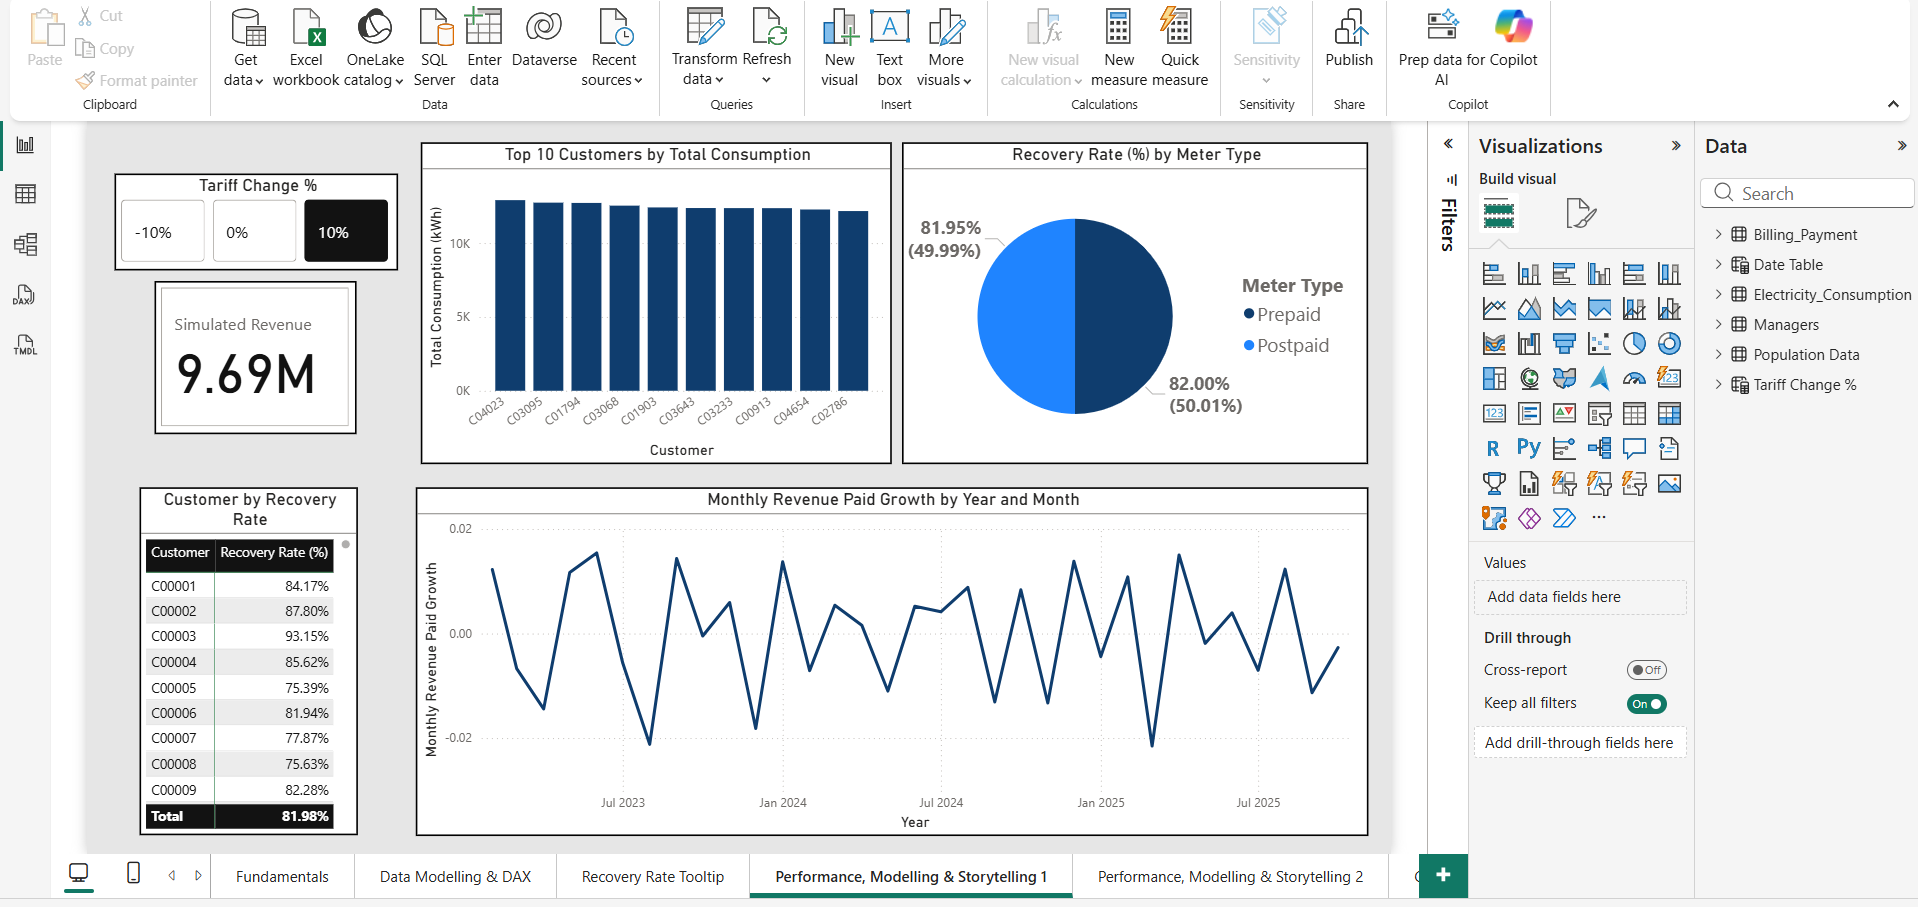

This screenshot's page, from the dashboard's own definition file:
{"tool":"powerbi","page":{"name":"Performance, Modelling & Storytelling 1","canvas":[1280,720],"ordinal":3},"visuals":[{"type":"advancedSlicerVisual","fields":{"Values":["Tariff Change %.Tariff Change %"]},"box":[27.6,51,278.8,95],"z":0,"group":"g1"},{"type":"lineChart","fields":{"Y":["Billing_Payment.Monthly Revenue Paid Growth"],"Category":["Date Table.Date.Variation.Date Hierarchy.Year","Date Table.Date.Variation.Date Hierarchy.Month"]},"box":[322.5,360,935,342.5],"z":0},{"type":"clusteredColumnChart","title":"Top 10 Customers by Total Consumption","fields":{"Category":["Billing_Payment.CustomerID"],"Y":["Sum(Electricity_Consumption.Consumption_kWh)"]},"box":[327.5,20.3,462.3,315.9],"z":1000},{"type":"cardVisual","fields":{"Data":["Billing_Payment.Simulated Revenue"]},"box":[66.4,156,198.8,150],"z":1000,"group":"g1"},{"type":"pieChart","fields":{"Category":["Electricity_Consumption.MeterType"],"Y":["Billing_Payment.Recovery Rate (%)"]},"box":[800,20.3,458,315.9],"z":2000},{"type":"pivotTable","title":"Customer by Recovery Rate","fields":{"Rows":["Electricity_Consumption.CustomerID"],"Values":["Billing_Payment.Recovery Rate (%)"]},"box":[51.4,360,214.3,341.4],"z":3000},{"type":"group","id":"g1","title":"Group 1","box":[27.6,51,278.8,255],"z":4000}]}

Visuals, with their boxes on the page's 1280x720 design canvas (x1, y1, x2, y2). These are canvas units, not pixel positions in the 1918x907 screenshot, which may show the page scaled, cropped or inside an application window:
advancedSlicerVisual - Tariff Change %.Tariff Change %: bbox=(28, 51, 306, 146)
lineChart - Billing_Payment.Monthly Revenue Paid Growth x Date Table.Date.Variation.Date Hierarchy.Year: bbox=(322, 360, 1258, 702)
"Top 10 Customers by Total Consumption" clusteredColumnChart: bbox=(328, 20, 790, 336)
cardVisual - Billing_Payment.Simulated Revenue: bbox=(66, 156, 265, 306)
pieChart - Electricity_Consumption.MeterType x Billing_Payment.Recovery Rate (%): bbox=(800, 20, 1258, 336)
"Customer by Recovery Rate" pivotTable: bbox=(51, 360, 266, 701)
"Group 1" group: bbox=(28, 51, 306, 306)
